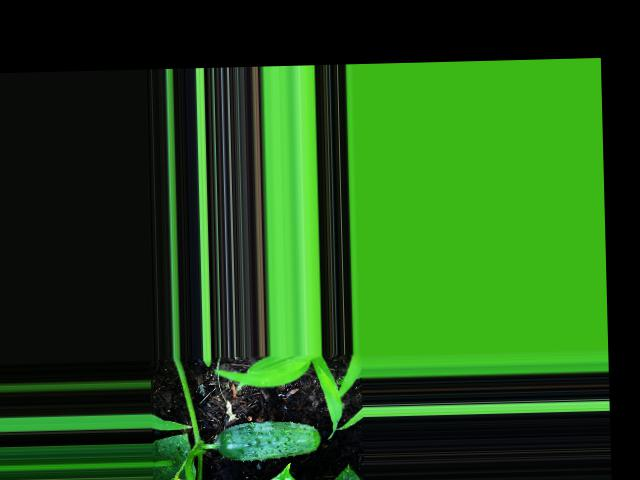cucumber: (215, 419, 322, 461)
